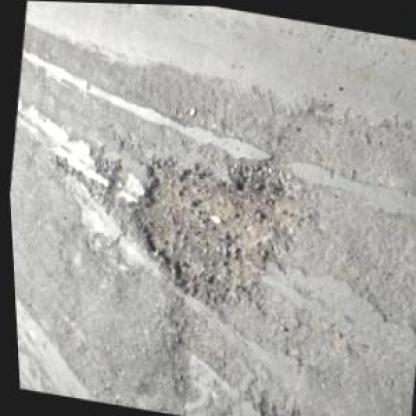pothole: (115, 134, 311, 315)
